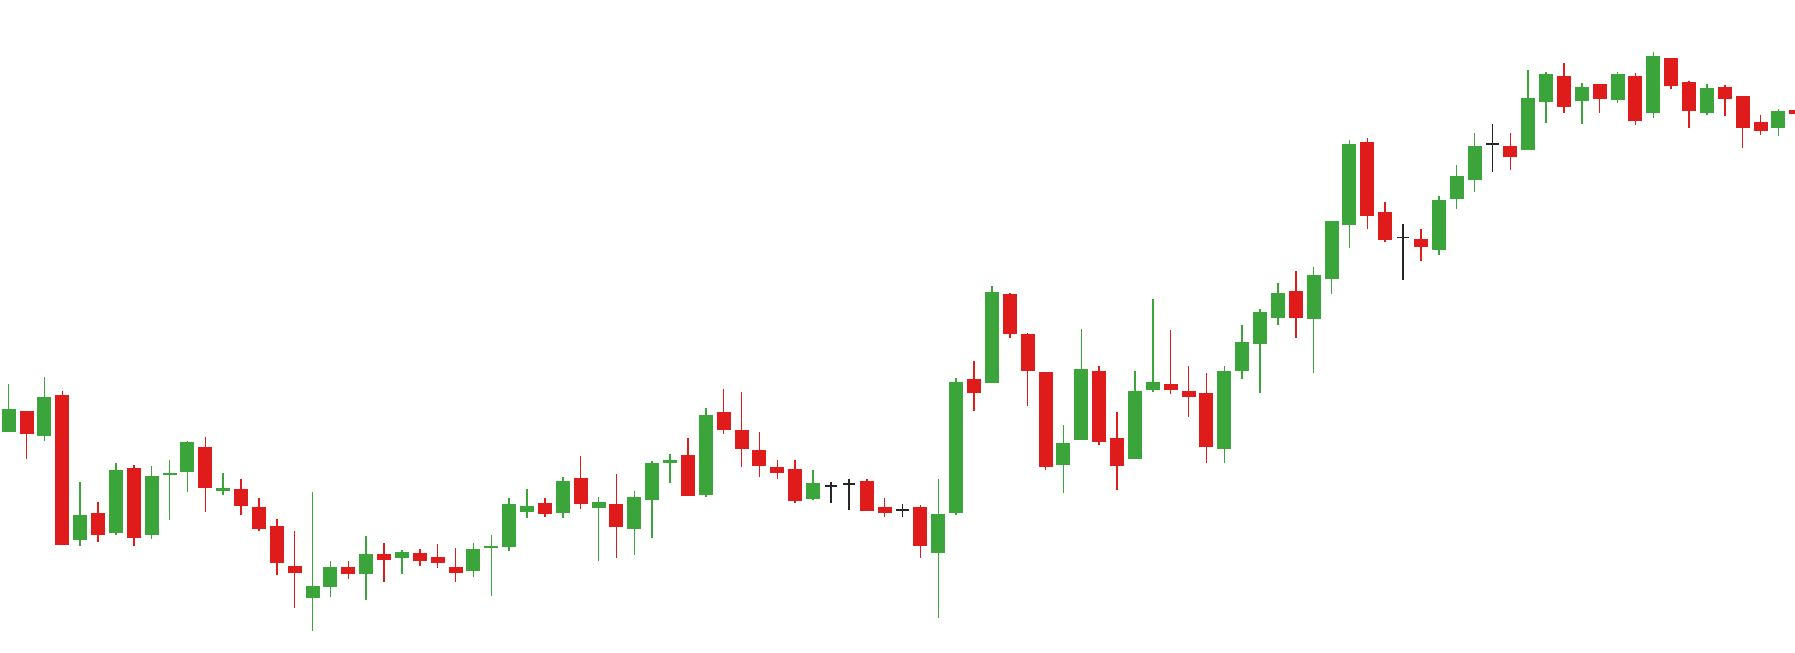sell: (1556, 48, 1682, 105)
